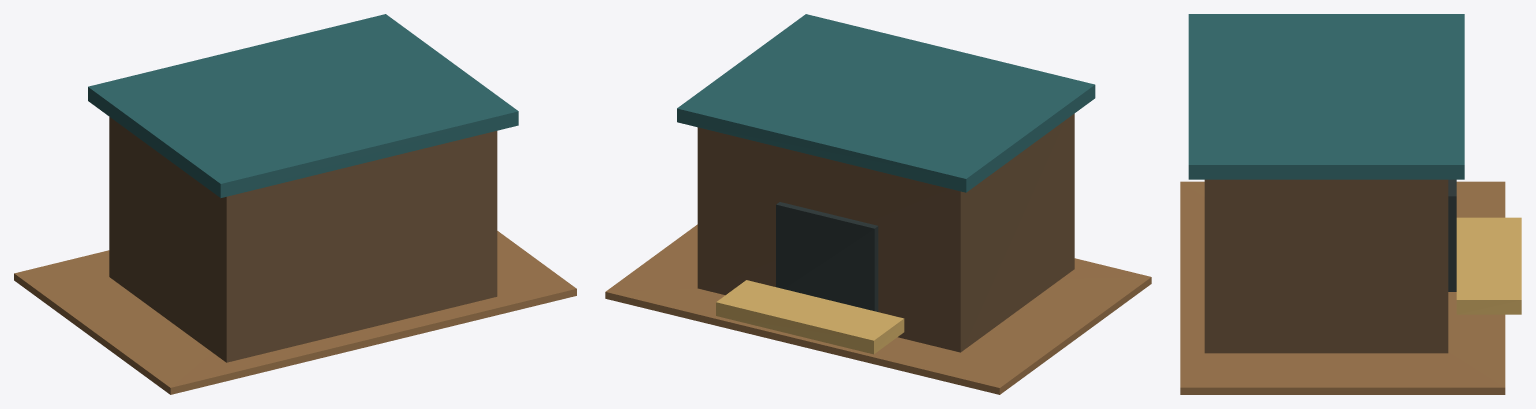
Rendered from automated-warehouse.source.glb.
The picture shows the model from 3 angles, left to right: view 1: azimuth 30°, elevation 25°; view 2: azimuth 150°, elevation 25°; view 3: azimuth 270°, elevation 25°; orthographic projection. The views are drawn at different scales.
Visible parts, largest first — view 1: automated-warehouse-body-mesh, automated-warehouse-roof-mesh, automated-warehouse-pad-mesh; view 2: automated-warehouse-body-mesh, automated-warehouse-roof-mesh, automated-warehouse-pad-mesh, automated-warehouse-loading-bay-mesh, automated-warehouse-conveyor-mesh; view 3: automated-warehouse-roof-mesh, automated-warehouse-body-mesh, automated-warehouse-pad-mesh, automated-warehouse-conveyor-mesh, automated-warehouse-loading-bay-mesh.
Boxes of the visible parts, <box> form: automated-warehouse-body-mesh: <box>109,117,497,362</box>; automated-warehouse-roof-mesh: <box>88,14,518,197</box>; automated-warehouse-pad-mesh: <box>14,231,576,394</box>; automated-warehouse-body-mesh: <box>697,113,1074,352</box>; automated-warehouse-roof-mesh: <box>677,14,1095,192</box>; automated-warehouse-pad-mesh: <box>605,224,1151,394</box>; automated-warehouse-loading-bay-mesh: <box>776,202,878,311</box>; automated-warehouse-conveyor-mesh: <box>716,280,904,354</box>; automated-warehouse-roof-mesh: <box>1188,14,1464,179</box>; automated-warehouse-body-mesh: <box>1204,179,1448,353</box>; automated-warehouse-pad-mesh: <box>1180,181,1505,394</box>; automated-warehouse-conveyor-mesh: <box>1456,217,1521,314</box>; automated-warehouse-loading-bay-mesh: <box>1448,179,1456,291</box>.
Size of the model in its own units: 6 by 2.75 by 4.2.
